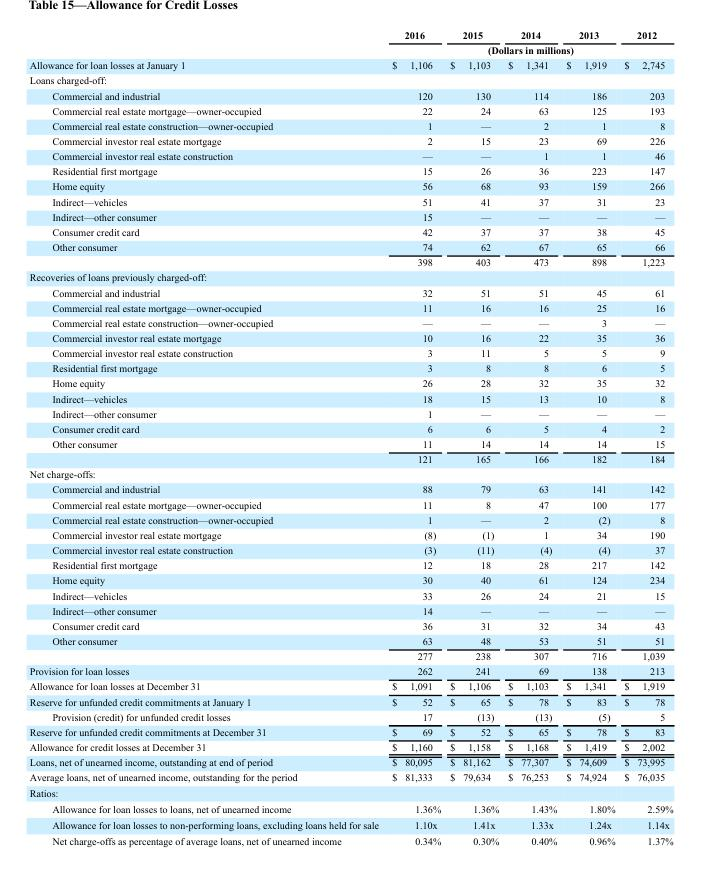table: (28, 28, 672, 846)
table column: (28, 28, 384, 846), (384, 28, 444, 846), (560, 28, 619, 846), (444, 28, 502, 846), (502, 28, 560, 846), (619, 28, 672, 846)
table column header: (28, 28, 672, 57)
table projected row header: (28, 784, 672, 800), (28, 72, 672, 87), (28, 269, 672, 284), (28, 466, 672, 481)
table row: (28, 41, 672, 57), (28, 117, 672, 133), (28, 223, 672, 239), (28, 329, 672, 345), (28, 420, 672, 436), (28, 526, 672, 542), (28, 617, 672, 633), (28, 723, 672, 739), (28, 784, 672, 800), (28, 800, 672, 816), (28, 816, 672, 832), (28, 57, 672, 72), (28, 72, 672, 87), (28, 87, 672, 102), (28, 102, 672, 117), (28, 133, 672, 148), (28, 148, 672, 163), (28, 163, 672, 178), (28, 178, 672, 193), (28, 193, 672, 208), (28, 208, 672, 223), (28, 239, 672, 254), (28, 254, 672, 269), (28, 269, 672, 284), (28, 284, 672, 299), (28, 299, 672, 314), (28, 314, 672, 329), (28, 345, 672, 360), (28, 360, 672, 375), (28, 375, 672, 390), (28, 390, 672, 405), (28, 405, 672, 420), (28, 436, 672, 451), (28, 451, 672, 466), (28, 466, 672, 481), (28, 481, 672, 496), (28, 496, 672, 511), (28, 511, 672, 526), (28, 542, 672, 557), (28, 557, 672, 572), (28, 572, 672, 587), (28, 587, 672, 602), (28, 602, 672, 617), (28, 633, 672, 648), (28, 648, 672, 663), (28, 663, 672, 678), (28, 678, 672, 693), (28, 693, 672, 708), (28, 708, 672, 723), (28, 739, 672, 754), (28, 754, 672, 769), (28, 769, 672, 784), (28, 832, 672, 846), (28, 28, 672, 41)
table spanning cell: (384, 41, 672, 57)
